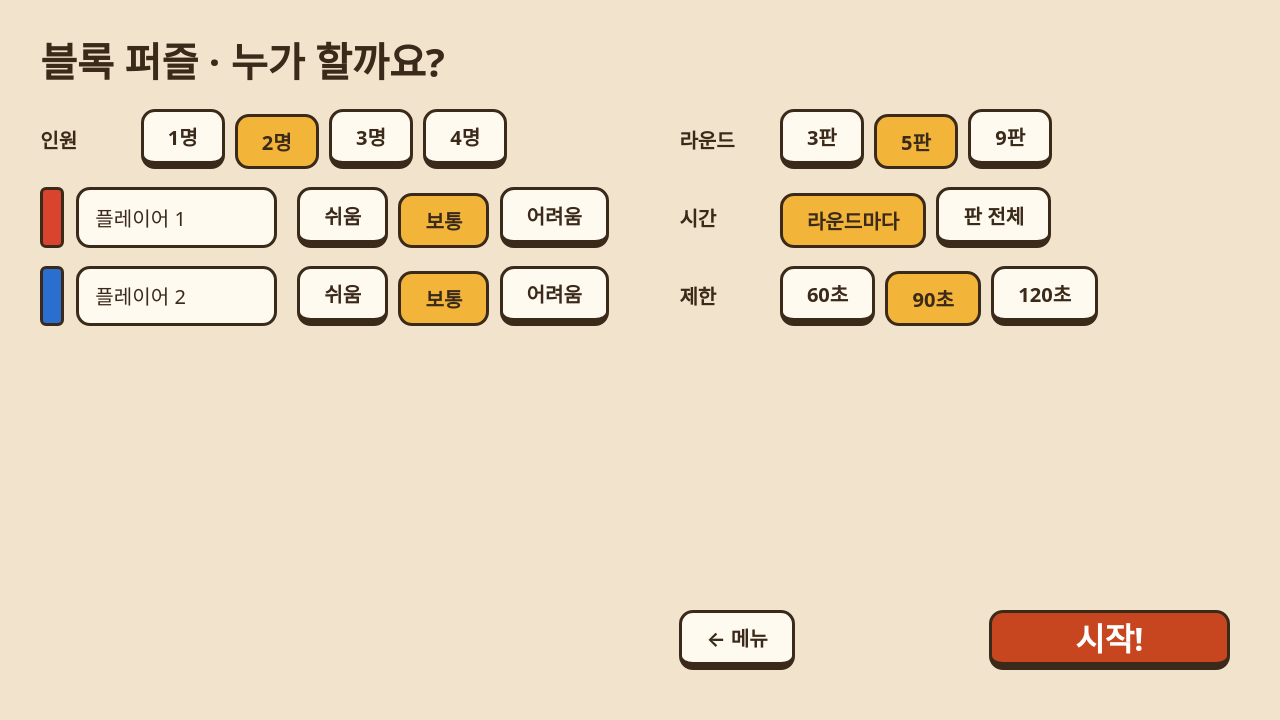
Test: PlayerSetup › 판 전체를 고르면 판 전체 시간 줄이 제한시간 줄을 대신한다
What coordinates should you click on to do the following:
click the button "판 전체"
I would click on:
 (994, 218)
Its box is [936,188,1051,248].
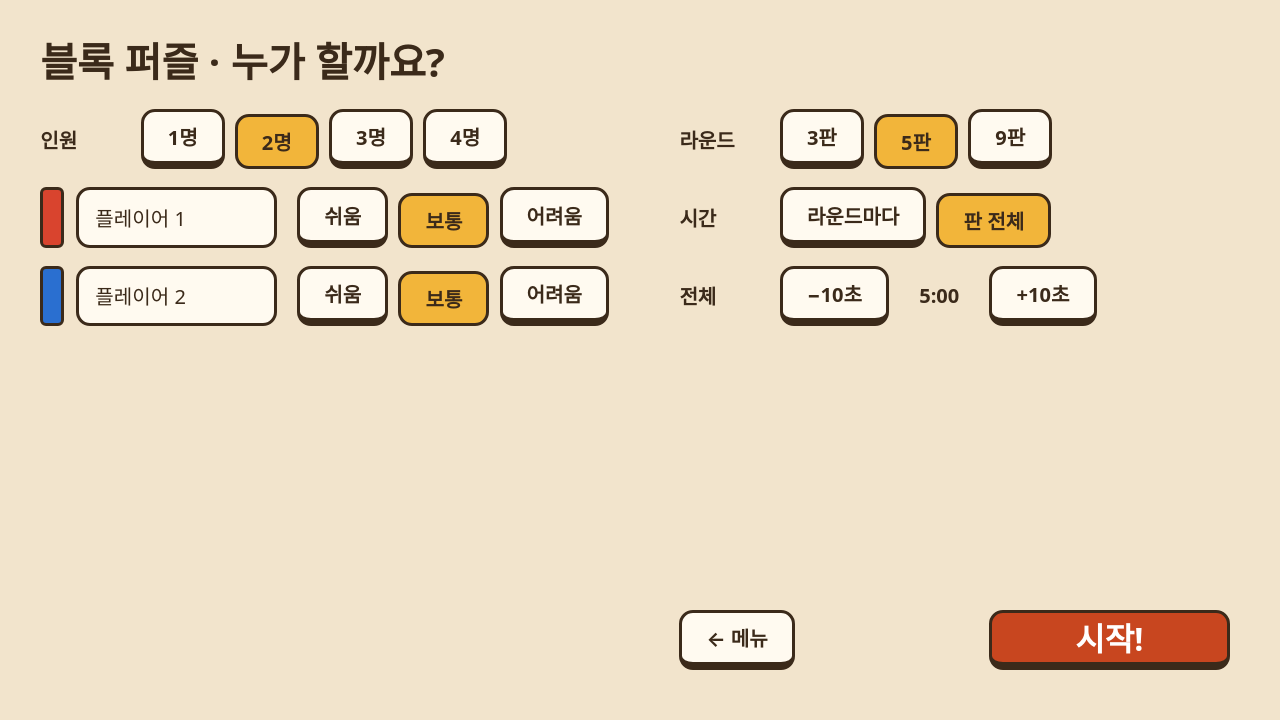
Result: the element named "판 전체 시간" is shown at [679,266,1097,326]
Result: the text with test id "game-time" reads "5:00" at [919,282,959,309]
